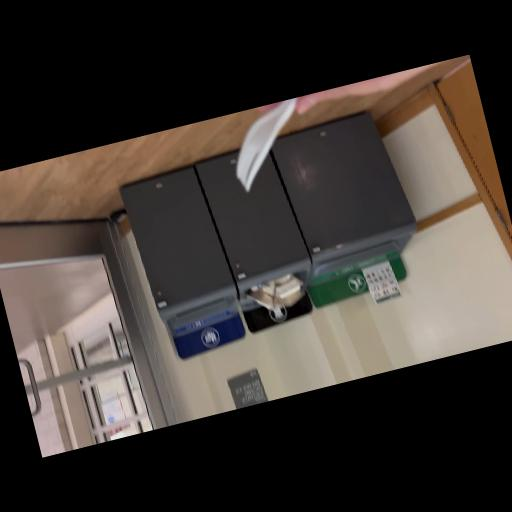utensil: (218, 96, 322, 197)
